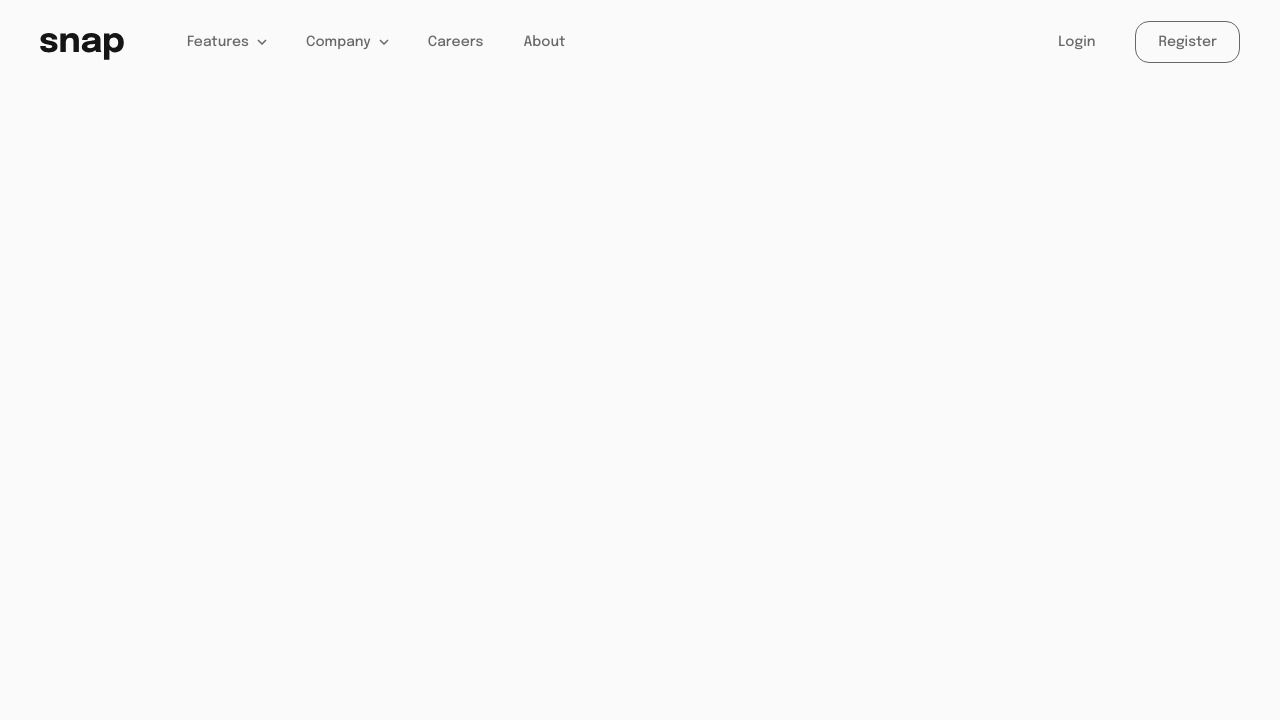
Scenario: SiteHeader › closes on a click outside but not on a click inside the panel
Click the button "Features" at (226, 42), box [187,34,266,50]
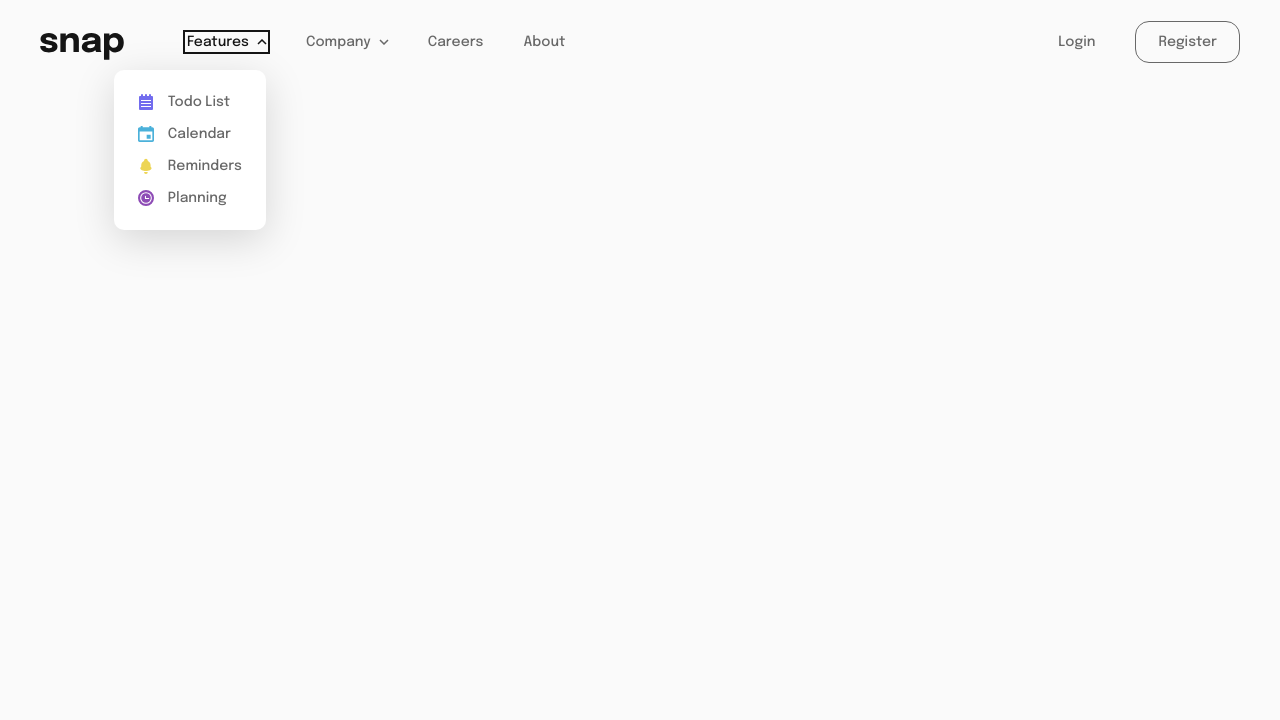
Click the element showing "Todo List Calendar Reminders Planning" at (190, 150), box [114,70,266,230]
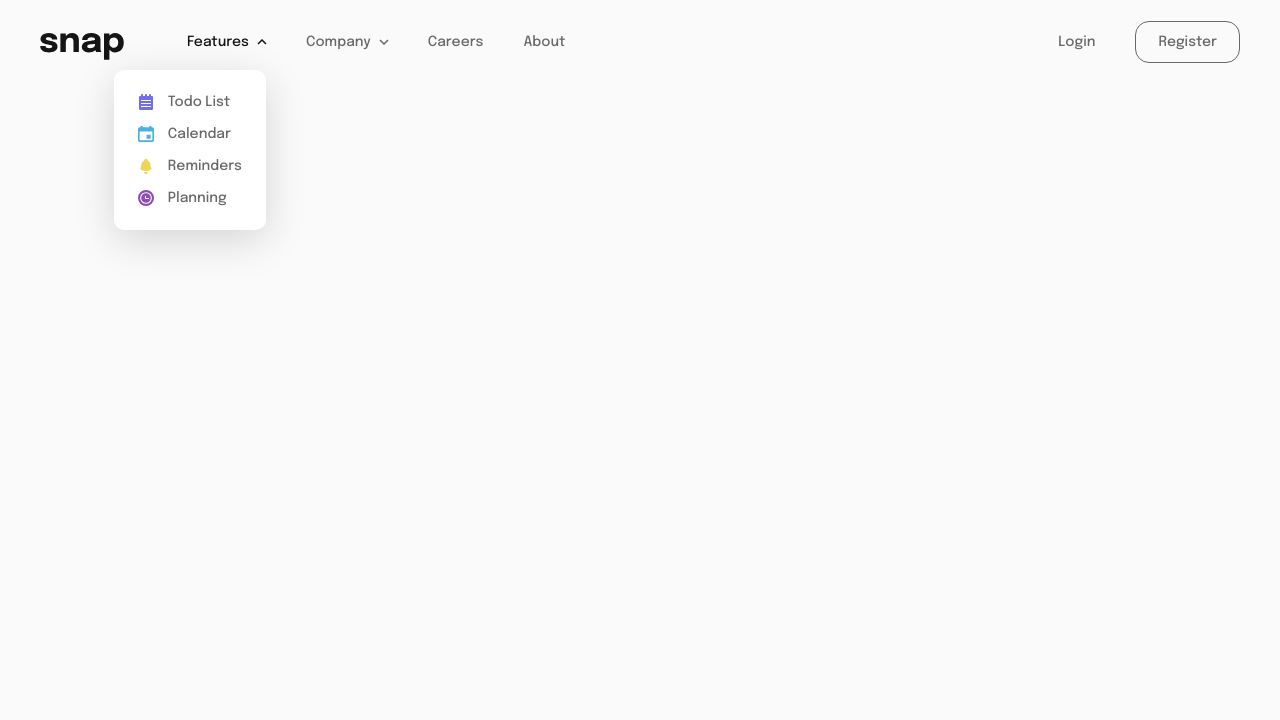
expect the button "Features" is expanded: met, box [187,34,266,50]
Click the element that starts with "Features" at (640, 360), box [0,0,1279,719]
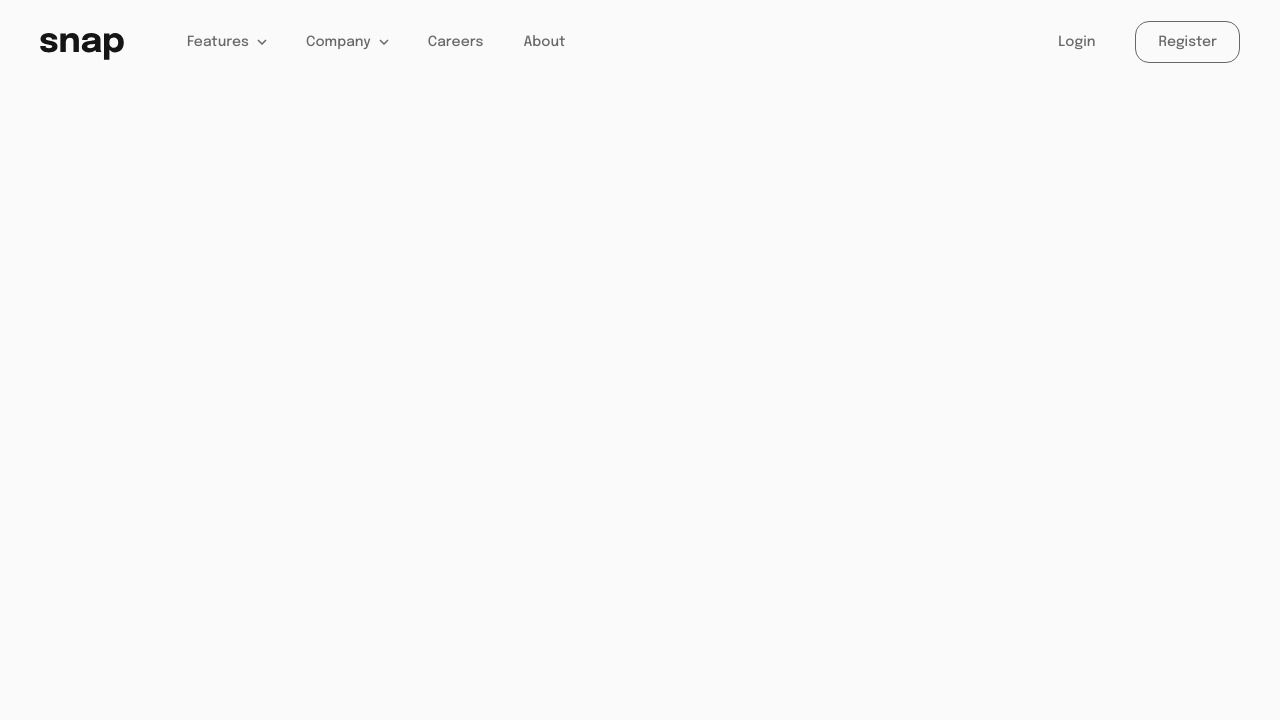
expect the button "Features" is collapsed: met, box [187,34,266,50]
